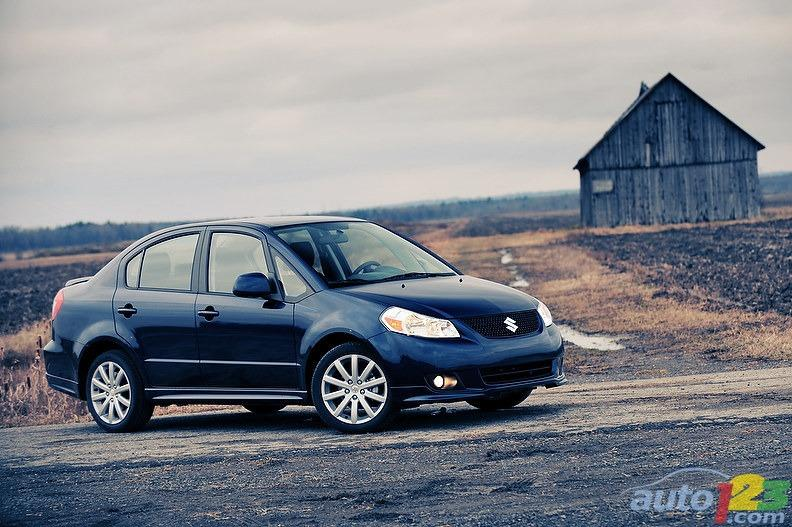suzuki: (497, 312, 526, 336)
